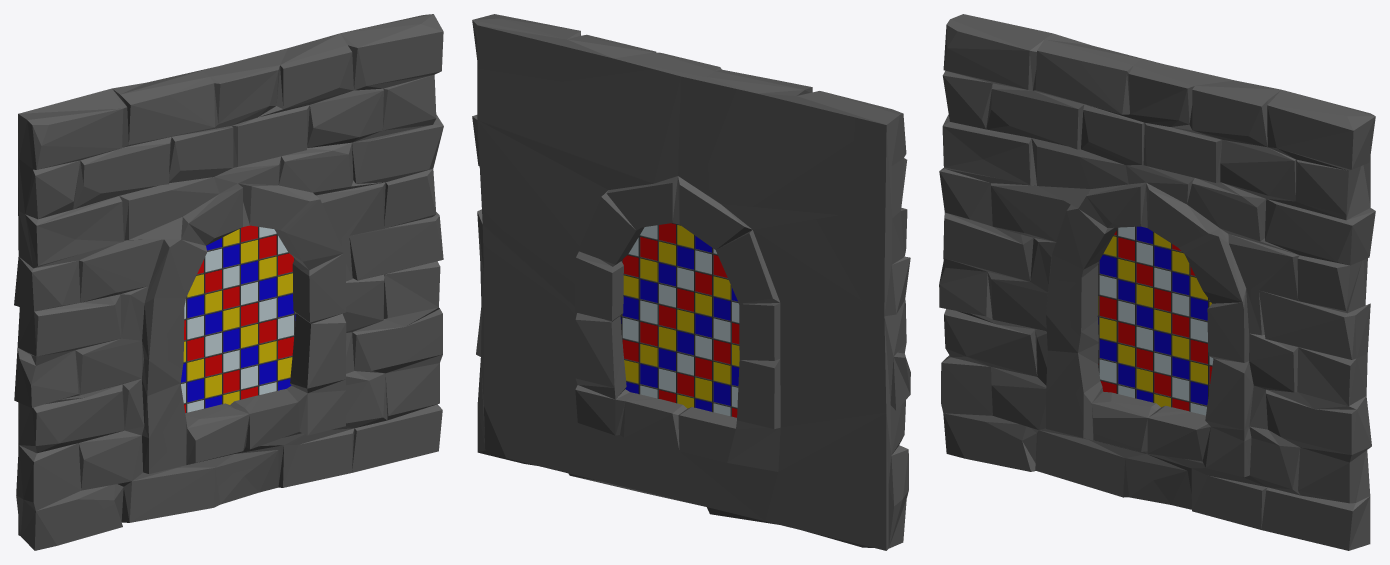
Rendered from Raam groot.fbx.
3 renders of one model, left to right at view 1: azimuth 30°, elevation 25°; view 2: azimuth 150°, elevation 25°; view 3: azimuth 330°, elevation 25°, orthographic.
Parts seen in each view (by area): view 1: SM_Env_Wall_Window_02, Cube, Cylinder, Cylinder.001; view 2: SM_Env_Wall_Window_02, Cube, Cylinder, Cylinder.001; view 3: SM_Env_Wall_Window_02, Cube, Cylinder, Cylinder.001.
Part boxes in pixels (<box>): SM_Env_Wall_Window_02: <box>14,14,443,550</box>; Cube: <box>181,225,295,412</box>; Cylinder: <box>186,226,295,412</box>; Cylinder.001: <box>180,233,296,404</box>; SM_Env_Wall_Window_02: <box>472,14,910,550</box>; Cube: <box>620,223,739,417</box>; Cylinder: <box>621,224,731,416</box>; Cylinder.001: <box>620,223,739,408</box>; SM_Env_Wall_Window_02: <box>939,14,1375,550</box>; Cube: <box>1098,226,1213,415</box>; Cylinder: <box>1098,226,1209,411</box>; Cylinder.001: <box>1097,235,1212,406</box>.
Bounding box in the file's own units: 262 × 257 × 30.73.
